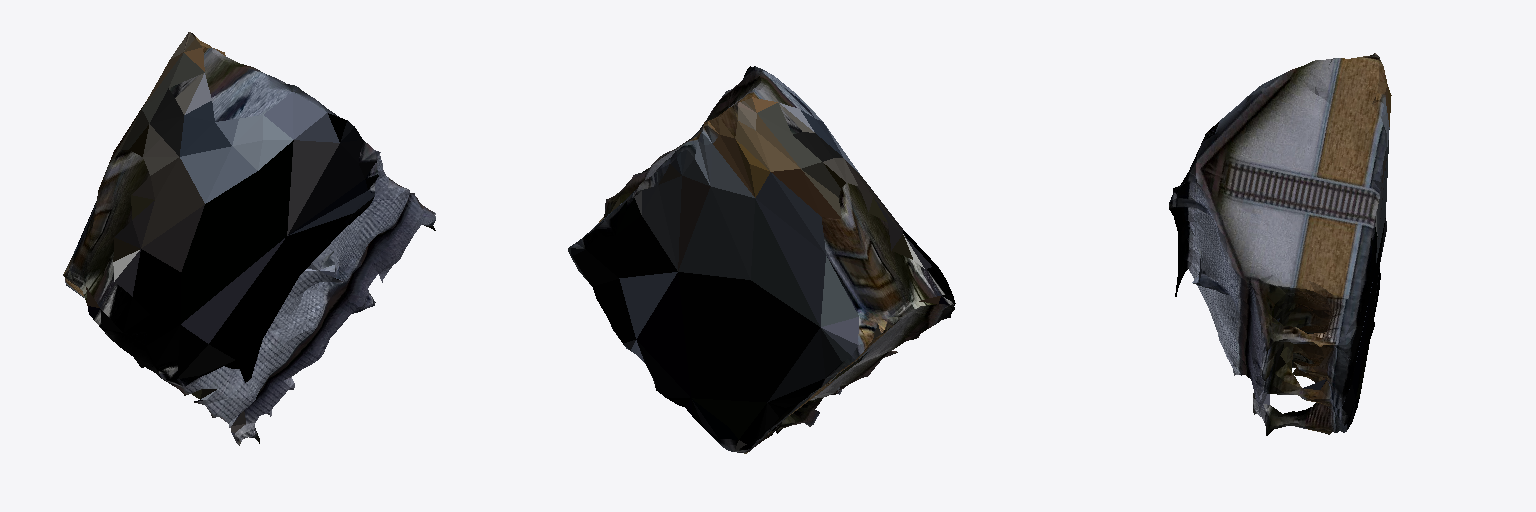
The picture shows the model from 3 angles: view 1: azimuth 30°, elevation 25°; view 2: azimuth 150°, elevation 25°; view 3: azimuth 270°, elevation 25°; orthographic projection.
Parts seen in each view (by area): view 1: Group_Global; view 2: Group_Global; view 3: Group_Global.
Part boxes in pixels (bbox=[...]): Group_Global: bbox=[63, 32, 435, 445]; Group_Global: bbox=[568, 66, 955, 453]; Group_Global: bbox=[1169, 53, 1391, 435].
Bounding box in the file's own units: 7.12 × 7.6 × 3.96.
1 materials, 1 textured.